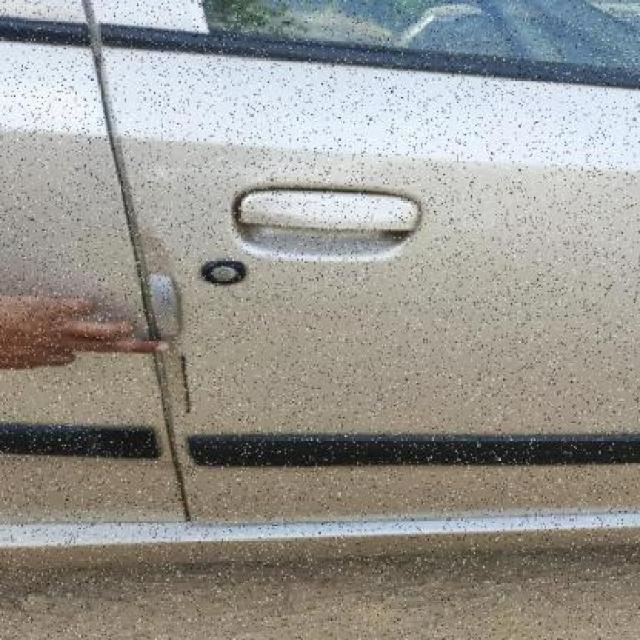doorouter-dent: (134, 56, 638, 522)
